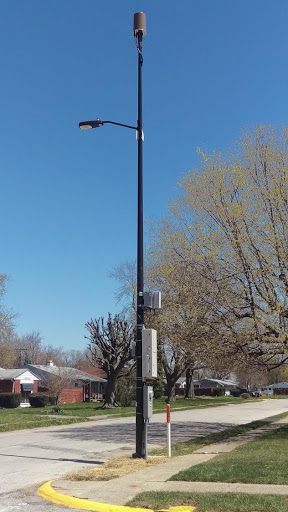pole: (73, 8, 178, 465)
